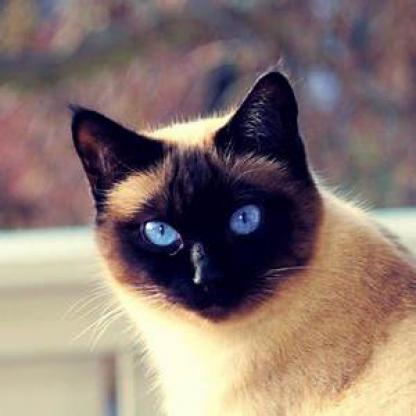cat: (65, 98, 415, 414)
